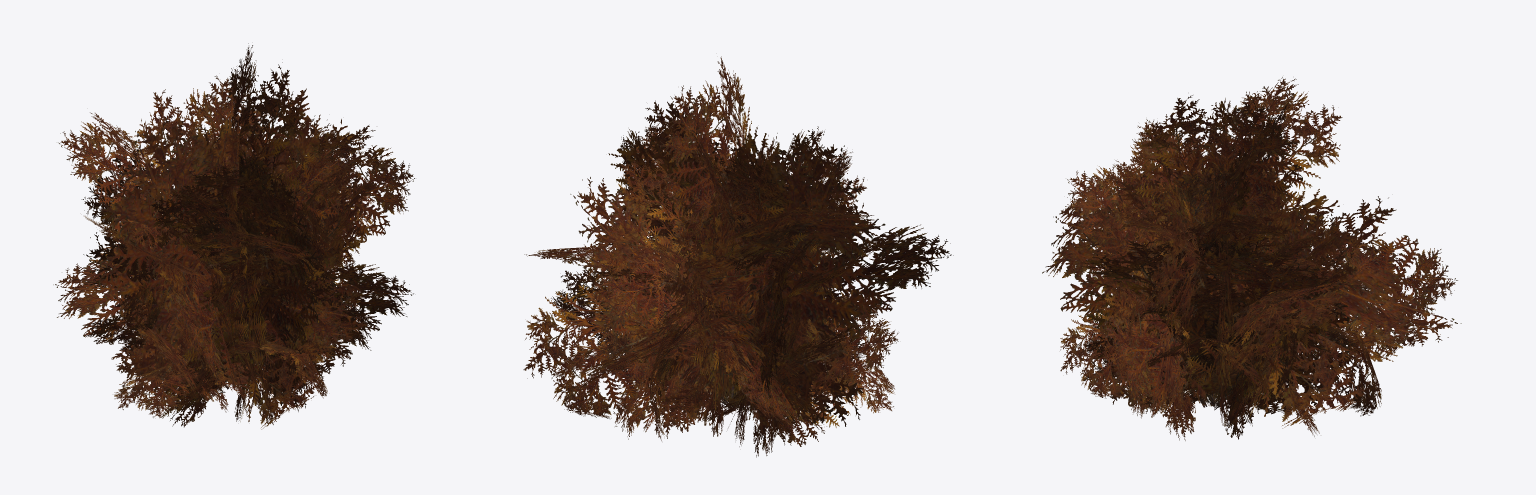
The model's file is bushes_2.glb.
The picture shows the model from 3 angles, left to right: view 1: azimuth 30°, elevation 25°; view 2: azimuth 150°, elevation 25°; view 3: azimuth 270°, elevation 25°; orthographic projection. The views are drawn at different scales.
Visible parts, largest first — view 1: bush_02; view 2: bush_02; view 3: bush_02.
Boxes of the visible parts, x1,y1,x2,y2 form: bush_02: (53, 43, 414, 429); bush_02: (523, 56, 953, 457); bush_02: (1042, 77, 1461, 440).
Size of the model in its own units: 12.89 by 13.06 by 14.47.
1 material, 1 textured.
